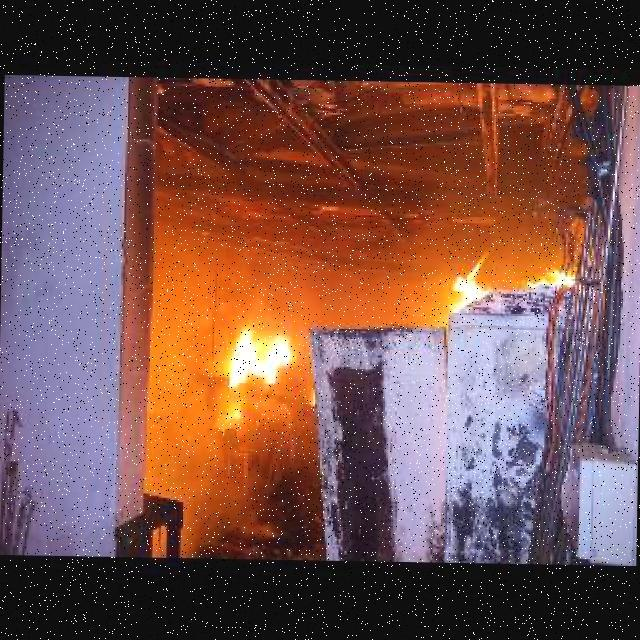Fire: (231, 323, 296, 386), (448, 246, 499, 311), (527, 266, 577, 287), (227, 407, 241, 419), (311, 390, 315, 404)
Smoke: (151, 294, 239, 507)
